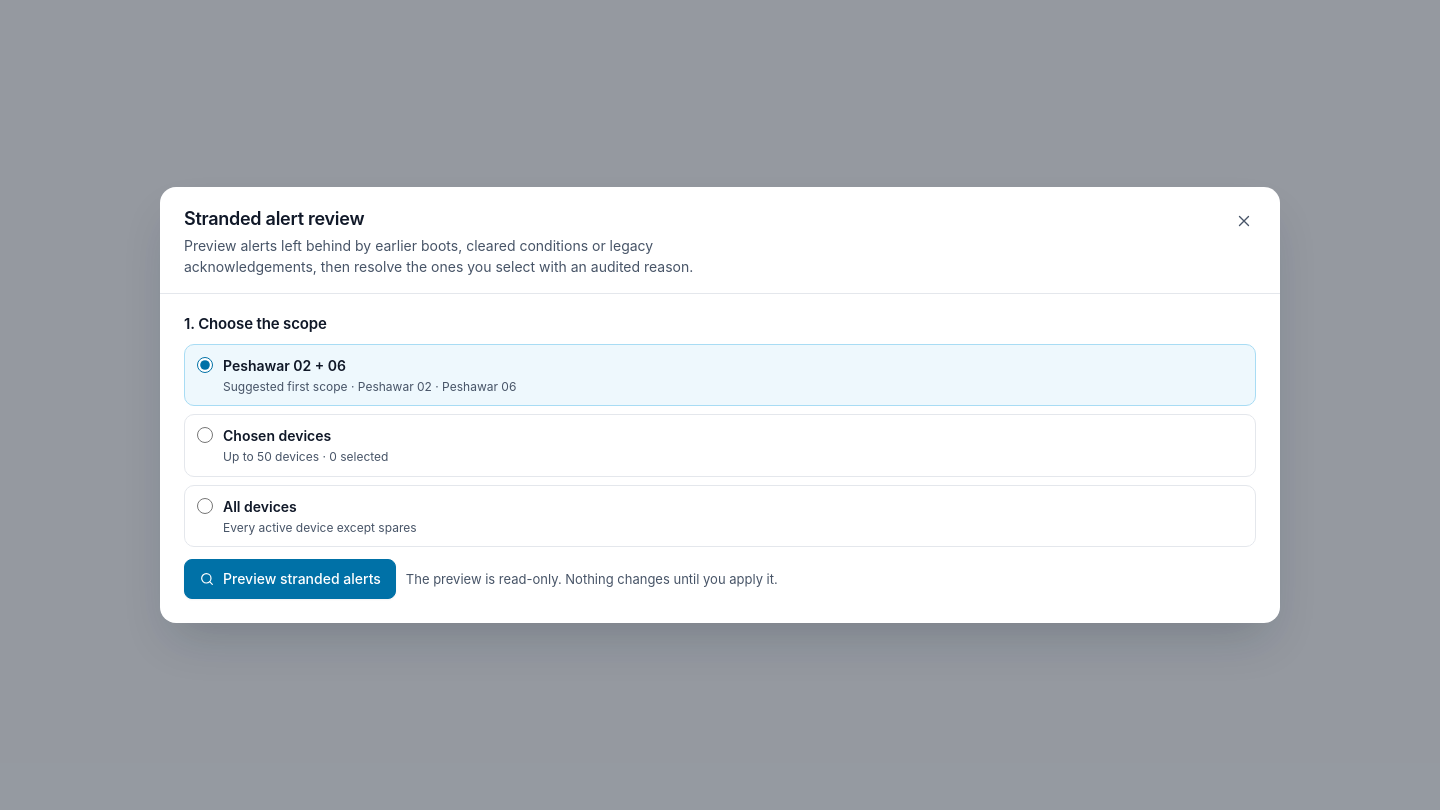
Test: HealthCleanupDialog › keeps Apply disabled until the typed confirmation matches and posts the signed selection
Expected: the radio button labelled "Peshawar 02 + 06" is checked, x1=197 y1=357 x2=213 y2=373
Click the button "Preview stranded alerts" at (290, 579), box x1=184 y1=559 x2=396 y2=599
(page scrolled)
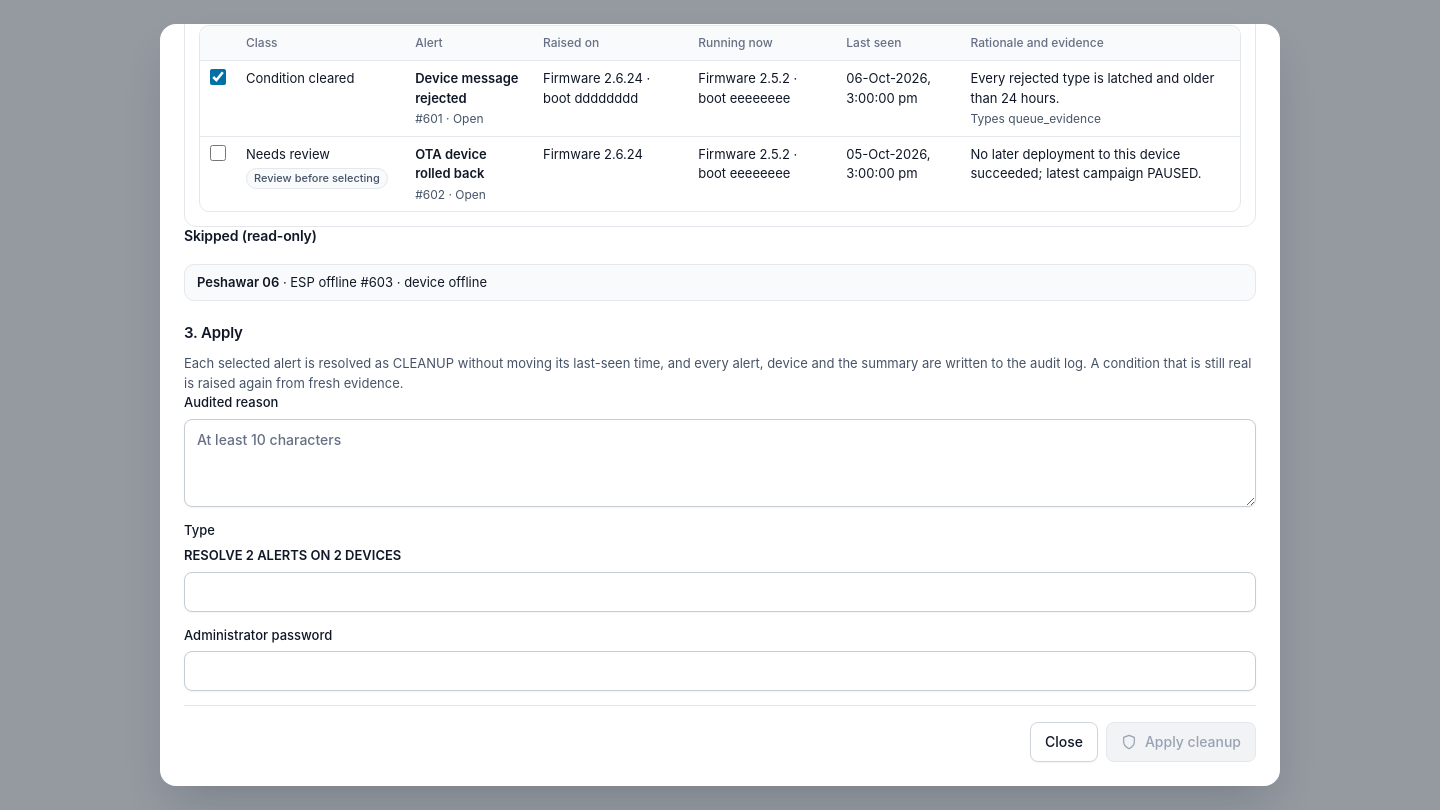
Type "Peshawar 02 and 06 recovery cleanup, reviewed with the owner." into the text box labelled "Audited reason" at (720, 463), box x1=184 y1=419 x2=1256 y2=507
Type "RESOLVE 2 ALERTS" into the field labelled "Type RESOLVE 2 ALERTS ON 2 DEVICES" at (720, 592), box x1=184 y1=572 x2=1256 y2=612
Type "local-step-up" into the password field labelled "Administrator password" at (720, 671), box x1=184 y1=651 x2=1256 y2=691
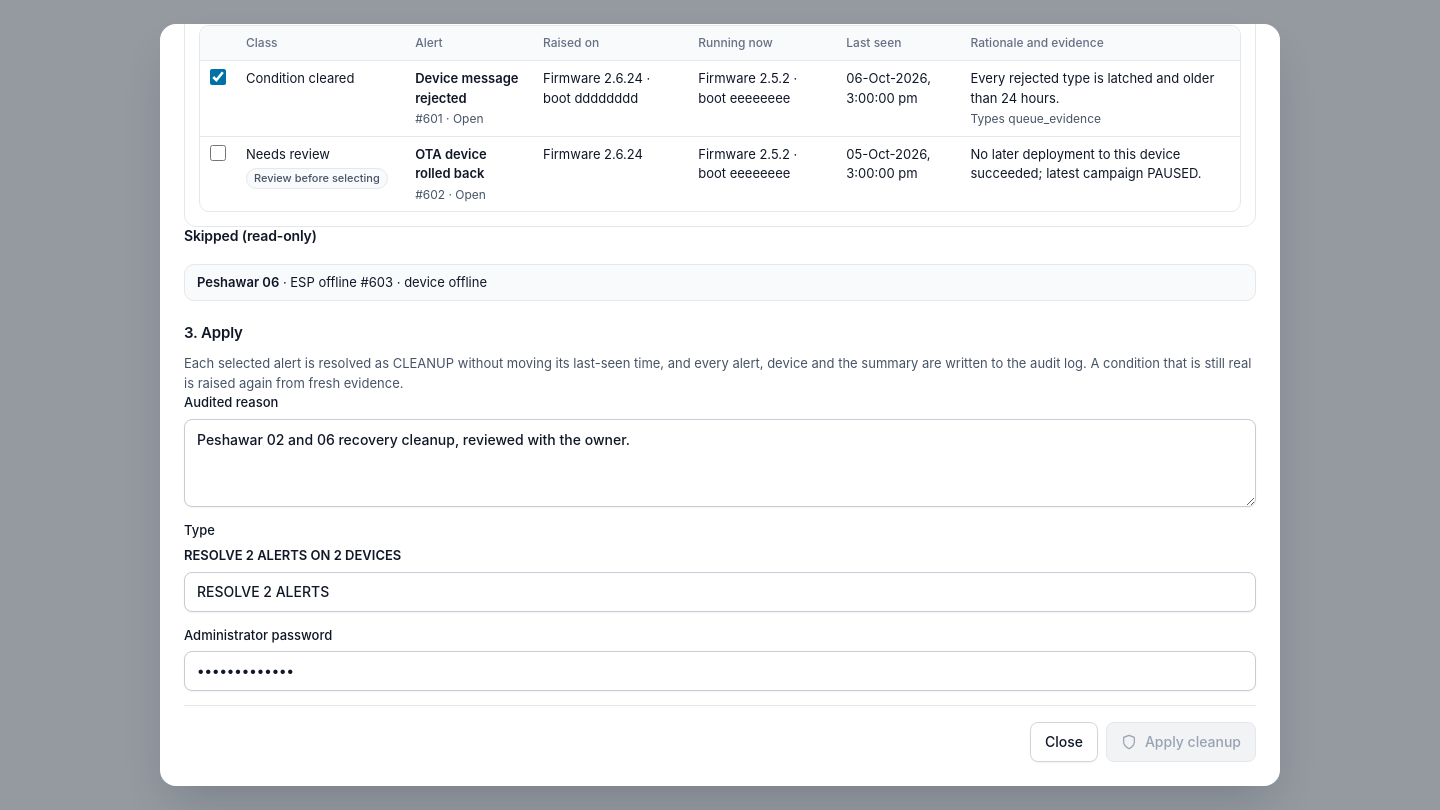
Result: the button "Apply cleanup" is disabled at x1=1106 y1=722 x2=1256 y2=762
Replace the text in the field labelled "Type RESOLVE 2 ALERTS ON 2 DEVICES" with "RESOLVE 2 ALERTS ON 2 DEVICES" at (720, 592), box x1=184 y1=572 x2=1256 y2=612
(page scrolled)
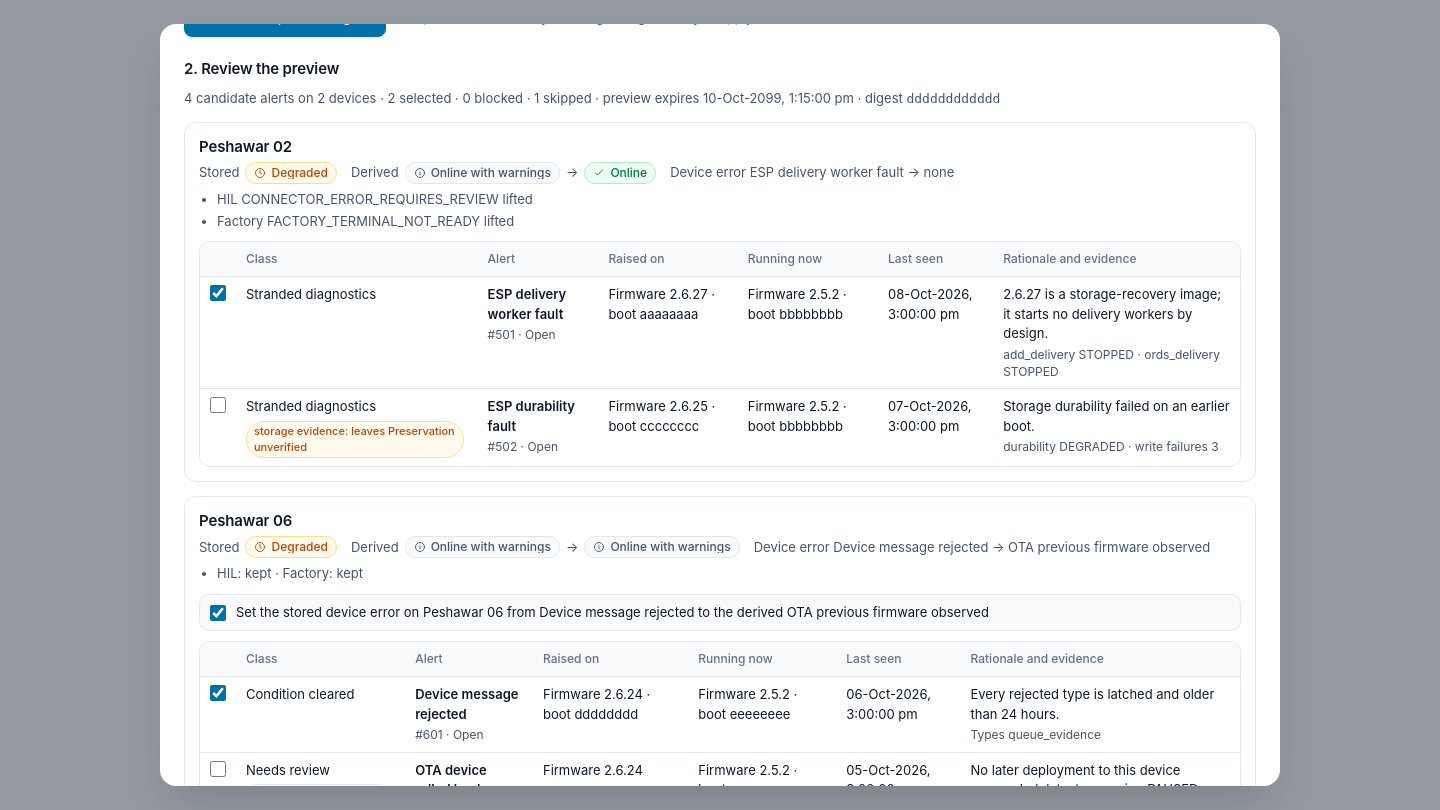
Click the checkbox named "Resolve alert 502 ESP durability fault" at (218, 405), box x1=210 y1=397 x2=226 y2=413
(page scrolled)
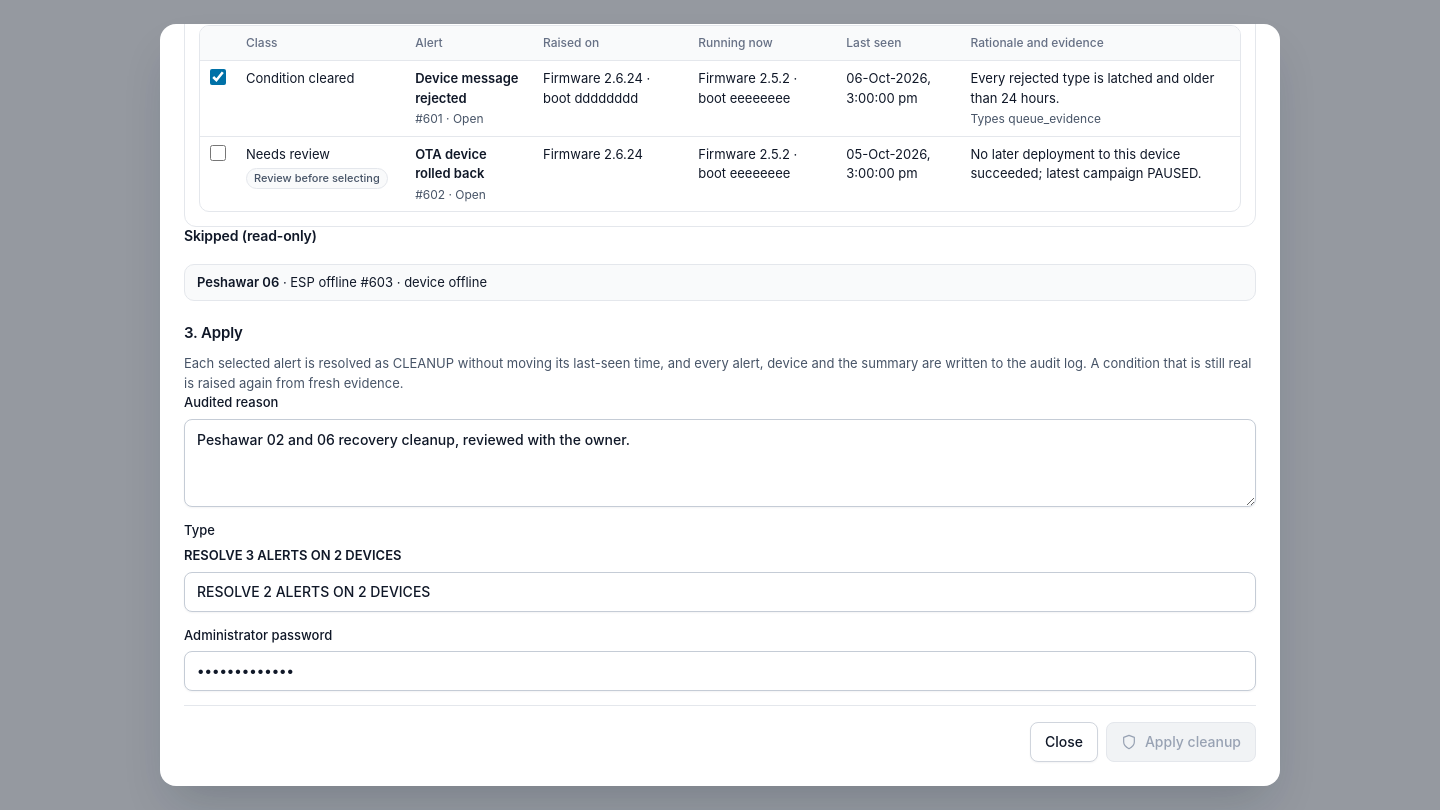
Result: the button "Apply cleanup" is disabled at x1=1106 y1=722 x2=1256 y2=762
Replace the text in the field labelled "Type RESOLVE 3 ALERTS ON 2 DEVICES" with "RESOLVE 3 ALERTS ON 2 DEVICES" at (720, 592), box x1=184 y1=572 x2=1256 y2=612
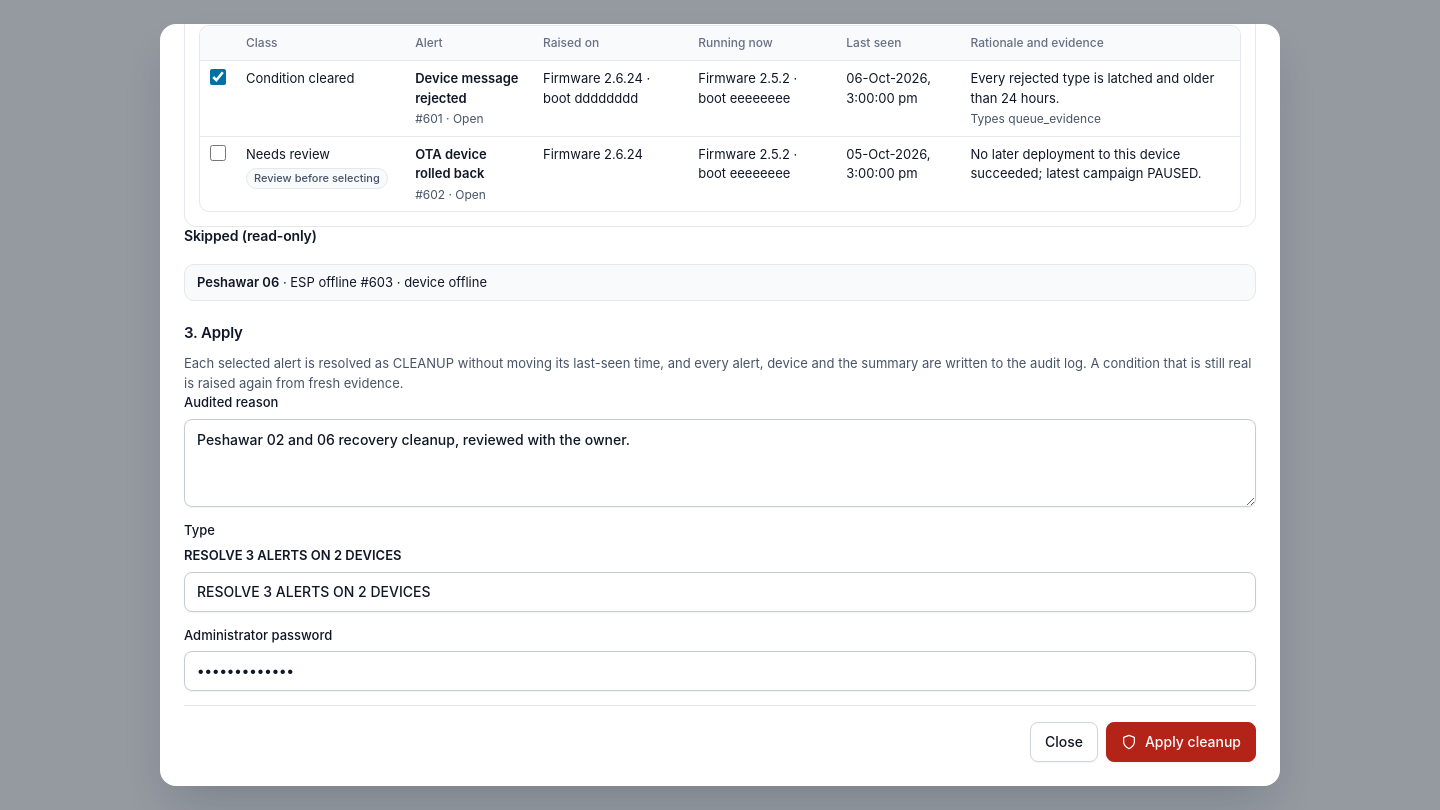
Result: the button "Apply cleanup" is enabled
Click the button "Apply cleanup" at (1181, 742), box x1=1106 y1=722 x2=1256 y2=762
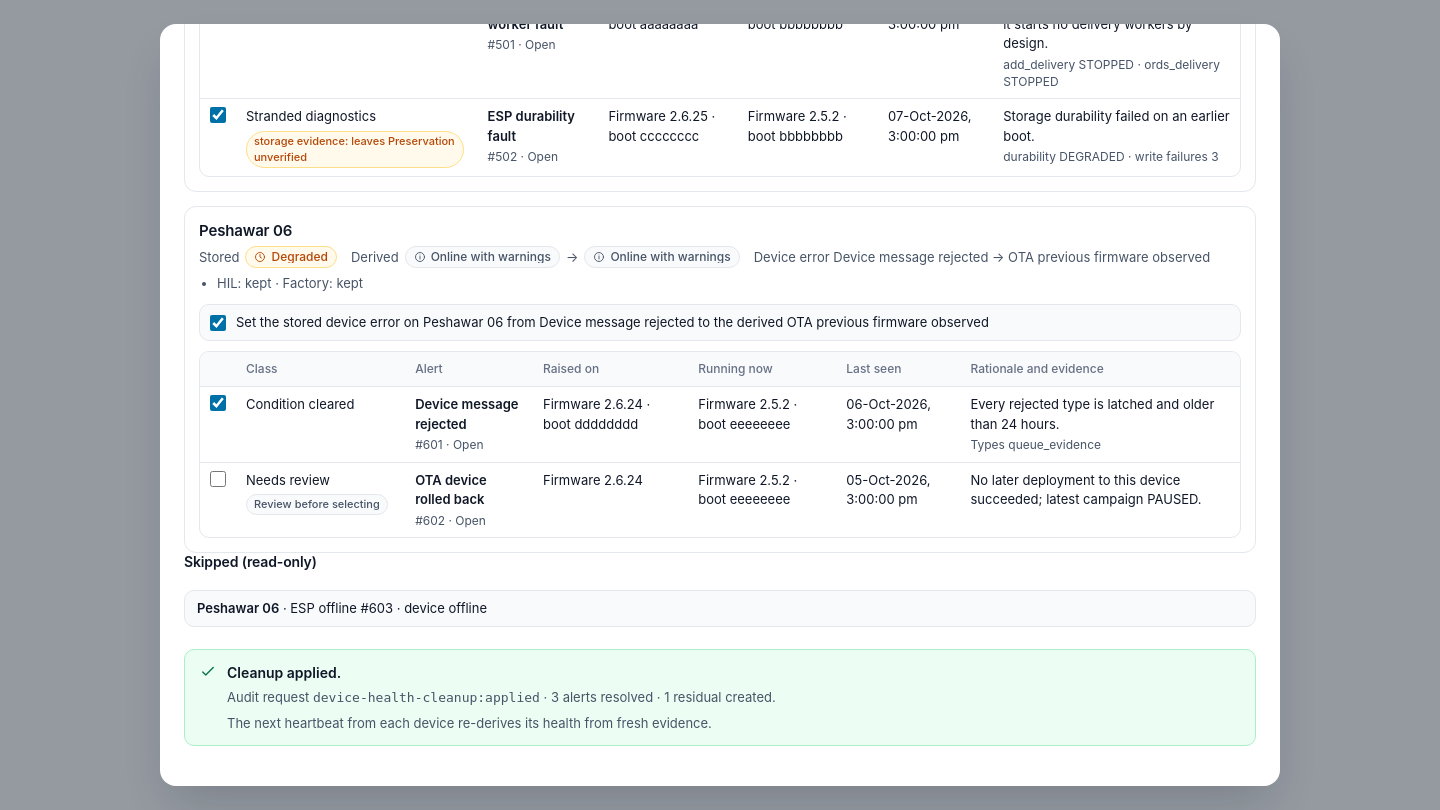
Result: the text "Cleanup applied." is shown at x1=227 y1=664 x2=341 y2=682
Result: the text "device-health-cleanup:applied" is shown at x1=313 y1=690 x2=540 y2=706
